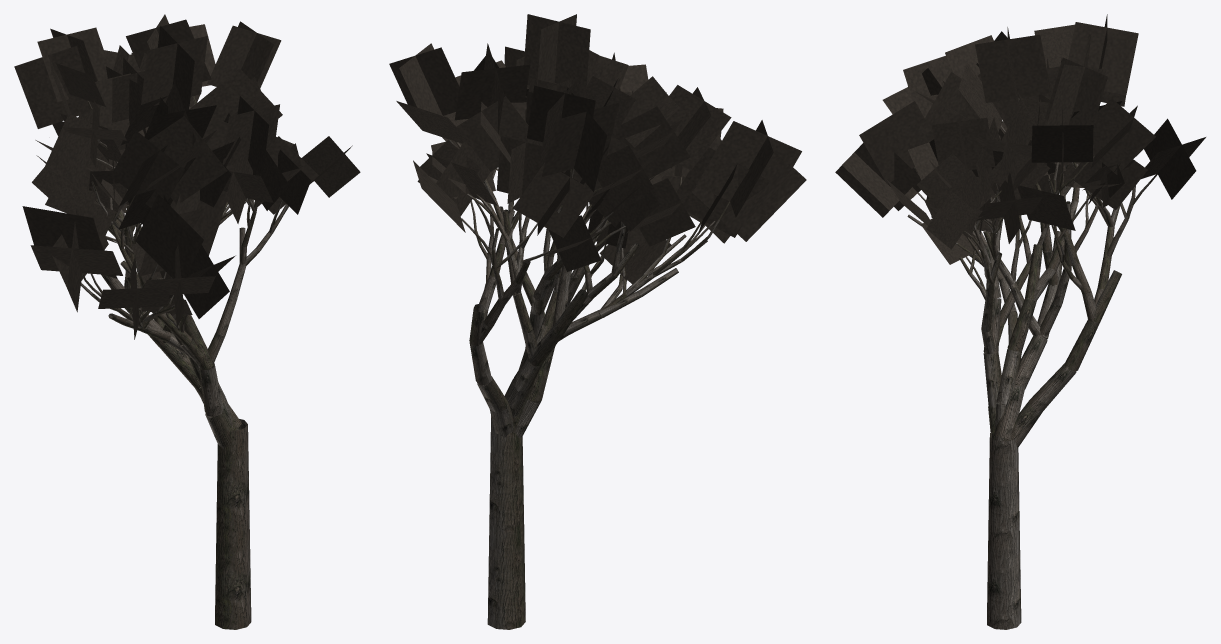
The model's file is S1U_Tree_A.fbx.
3 renders of one model, left to right at view 1: azimuth 30°, elevation 25°; view 2: azimuth 150°, elevation 25°; view 3: azimuth 270°, elevation 25°, orthographic. The views are drawn at different scales.
Visible parts, largest first — view 1: S1U_Tree_A; view 2: S1U_Tree_A; view 3: S1U_Tree_A.
Boxes of the visible parts, x1,y1,x2,y2 form: S1U_Tree_A: (14,14,360,629); S1U_Tree_A: (389,14,806,629); S1U_Tree_A: (835,14,1205,629).
Bounding box in the file's own units: 6.36 × 10.83 × 6.47.
